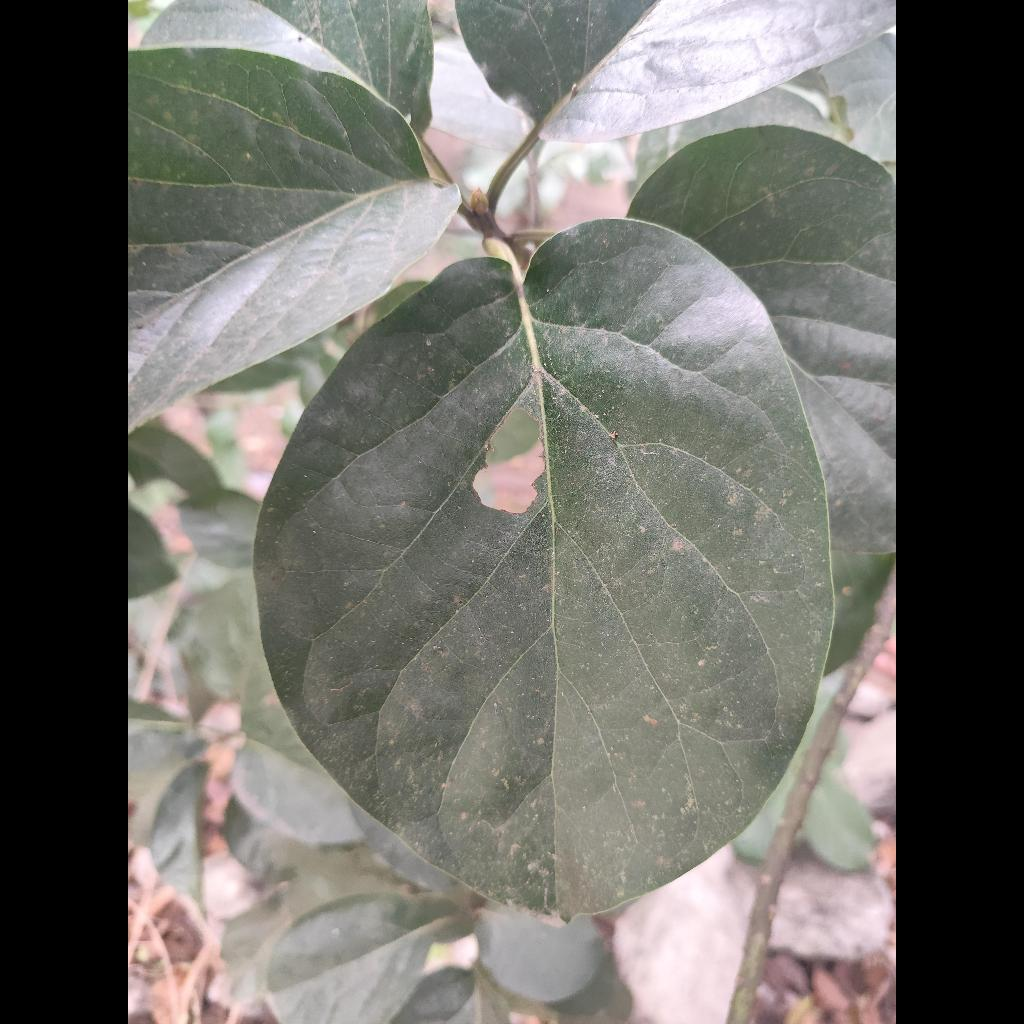Pest Infested: (254, 219, 833, 917)
